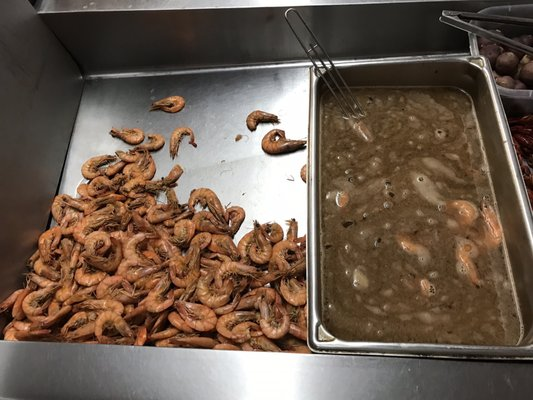sushi: (304, 14, 532, 359)
